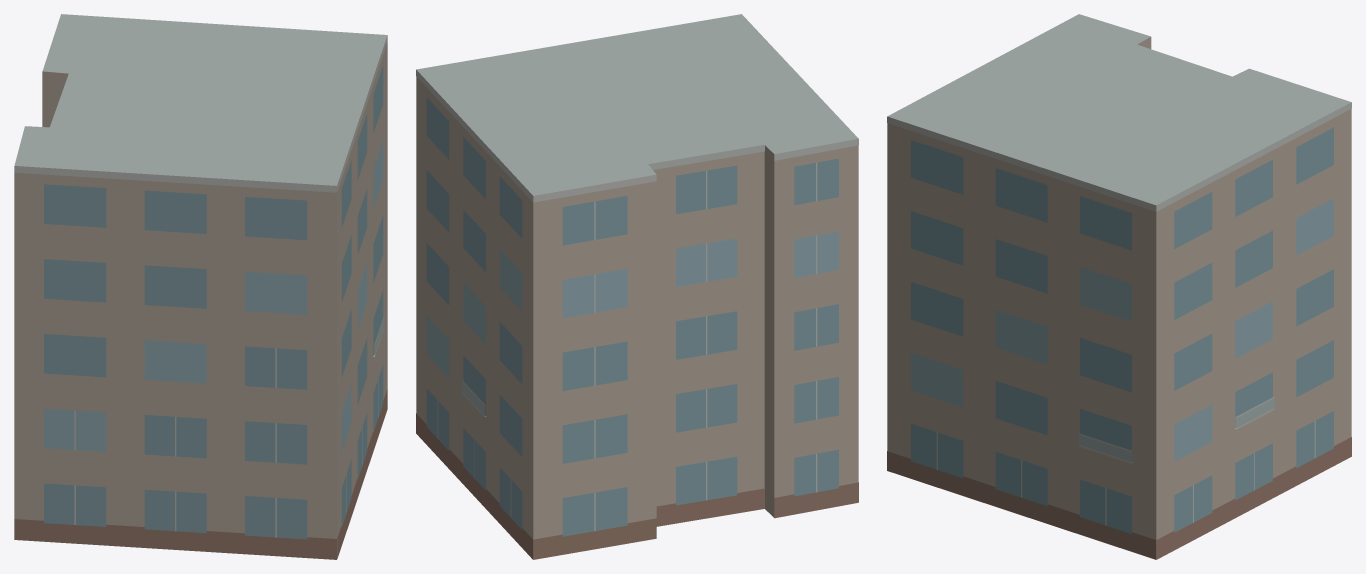
Rendered from survey-upis-32958577.glb.
3 views of the same model, side by side, from view 1: azimuth 30°, elevation 25°; view 2: azimuth 150°, elevation 25°; view 3: azimuth 270°, elevation 25° (orthographic). The views are drawn at different scales.
Visible parts, largest first — view 1: survey-upis-32958577.tmp; view 2: survey-upis-32958577.tmp; view 3: survey-upis-32958577.tmp.
Boxes of the visible parts, x1,y1,x2,y2 form: survey-upis-32958577.tmp: (14,14,387,559); survey-upis-32958577.tmp: (416,14,858,559); survey-upis-32958577.tmp: (887,14,1351,559).
Bounding box in the file's own units: 15.53 × 13.4 × 15.93.
